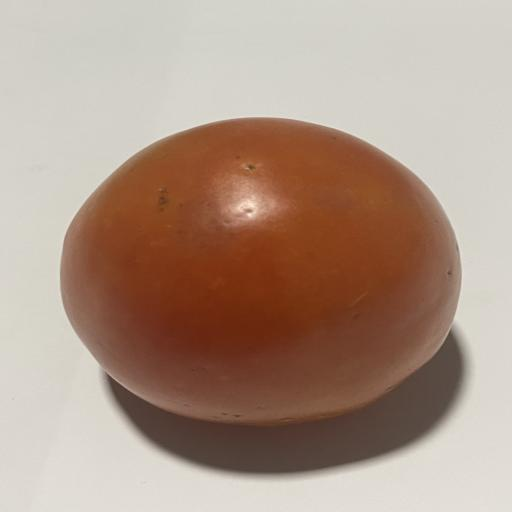unripe: (61, 118, 461, 424)
